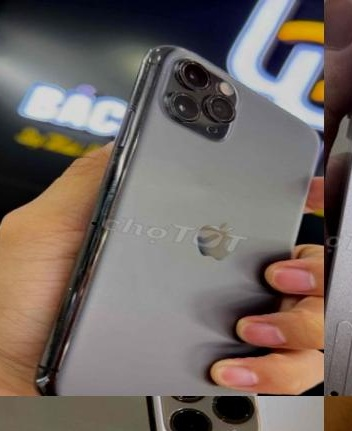scratch: (82, 167, 125, 277), (59, 283, 106, 309), (47, 309, 77, 335)
